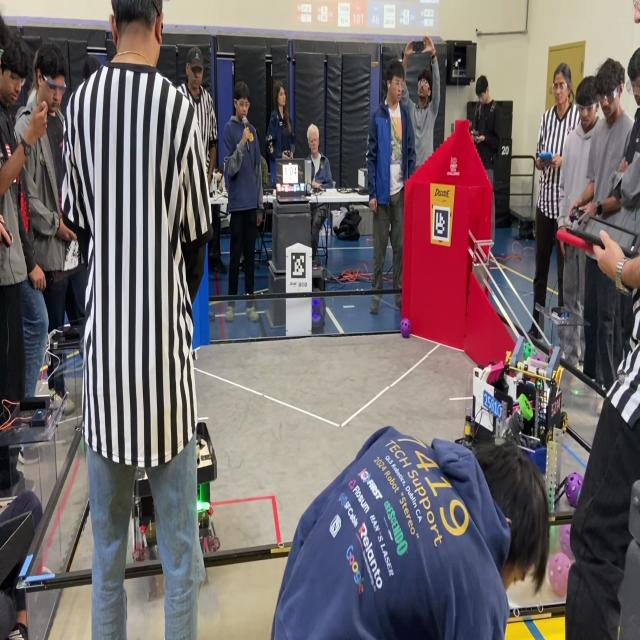artifact_purple: (548, 553, 572, 596), (566, 472, 583, 507), (558, 525, 573, 559), (401, 319, 410, 338), (533, 354, 543, 362)
